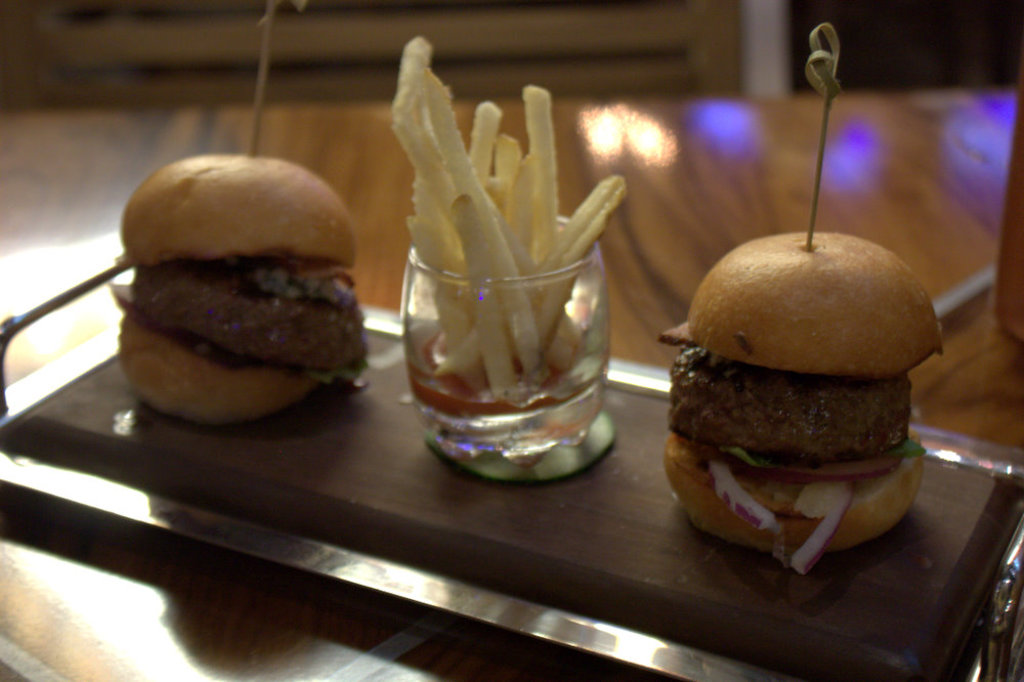Hamburger: (657, 222, 950, 574), (100, 153, 375, 423)
